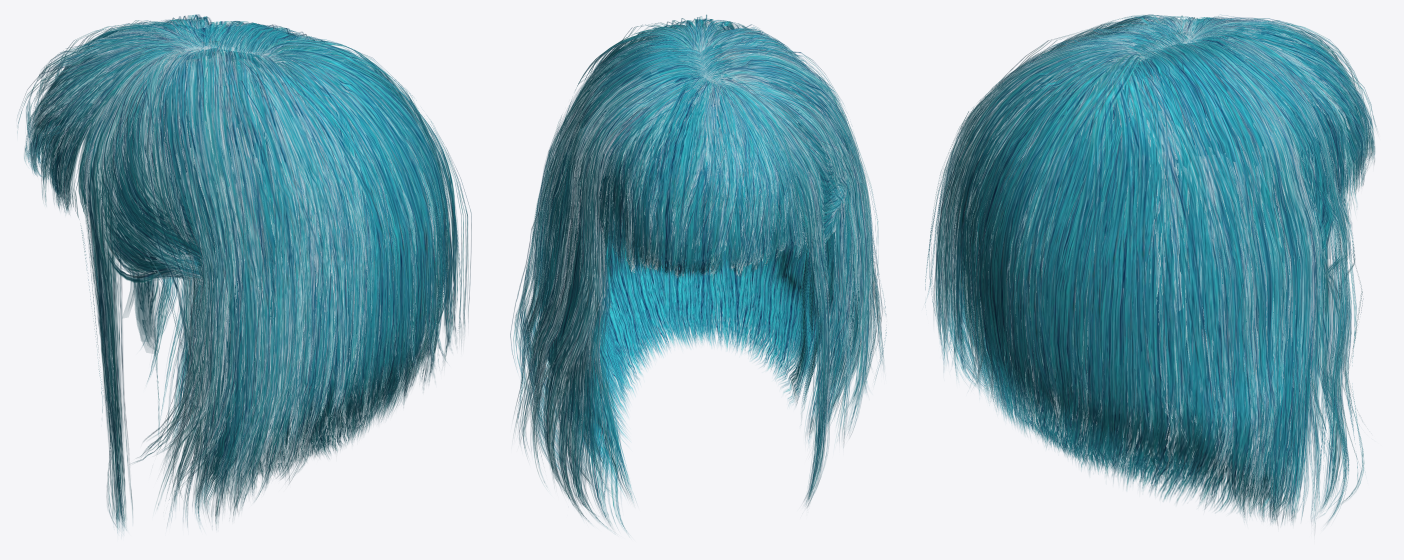
Rendered from JOI-hair.glb.
3 views of the same model, side by side, from view 1: azimuth 30°, elevation 25°; view 2: azimuth 150°, elevation 25°; view 3: azimuth 270°, elevation 25° (orthographic). The views are drawn at different scales.
Parts seen in each view (by area): view 1: JOI-Hair; view 2: JOI-Hair; view 3: JOI-Hair.
Part boxes in pixels (x1,y1,x2,y2): JOI-Hair: (17,14,471,532); JOI-Hair: (510,14,886,532); JOI-Hair: (925,14,1376,524).
Size of the model in its own units: 0.2239 by 0.3099 by 0.2695.
Materials: 1 (1 with a texture image).
